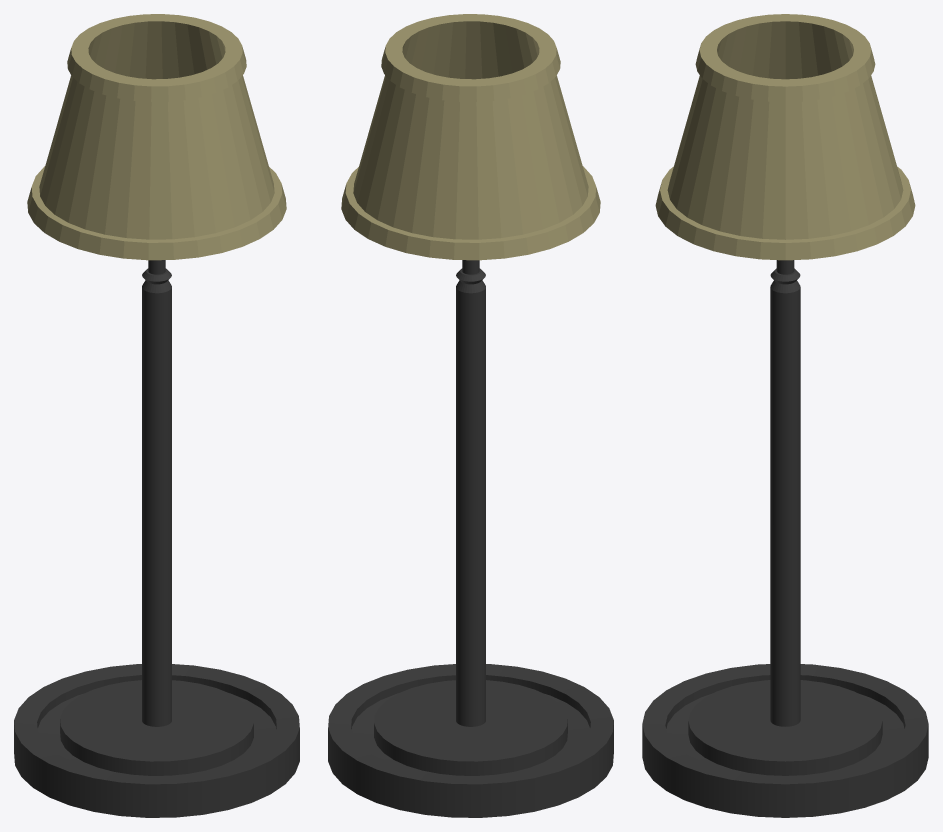
Rendered from Lamp.glb.
3 views of the same model, side by side, from view 1: azimuth 30°, elevation 25°; view 2: azimuth 150°, elevation 25°; view 3: azimuth 270°, elevation 25° (orthographic).
Visible parts, largest first — view 1: Lamp; view 2: Lamp; view 3: Lamp.
Part boxes in pixels (x1,y1,x2,y2): Lamp: [14, 14, 299, 817]; Lamp: [328, 14, 613, 817]; Lamp: [642, 14, 928, 817].
Bounding box in the file's own units: 2.04 × 5.57 × 2.04.
